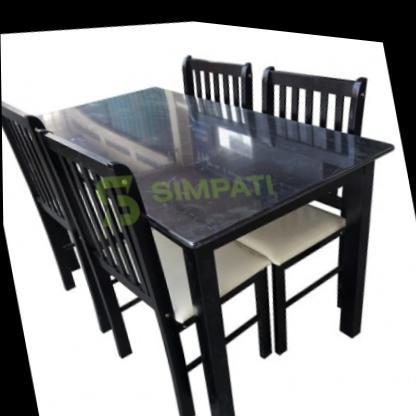Dining Table: (0, 1, 416, 416)
